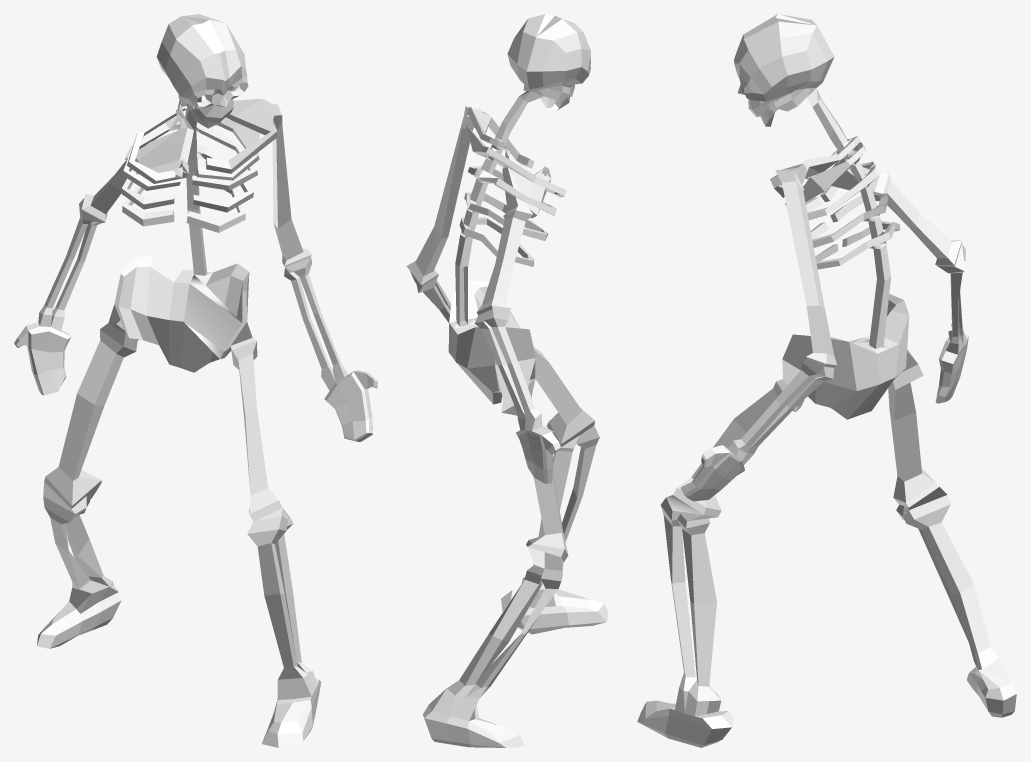
Rendered from SkeletonIdle(5).obj.
3 renders of one model, left to right at view 1: azimuth 30°, elevation 25°; view 2: azimuth 150°, elevation 25°; view 3: azimuth 270°, elevation 25°, orthographic. The views are drawn at different scales.
Visible parts, largest first — view 1: Object002; view 2: Object002; view 3: Object002.
Boxes of the visible parts, x1,y1,x2,y2 form: Object002: (14,14,377,747); Object002: (406,14,608,747); Object002: (637,14,1016,747).
Size of the model in its own units: 408 by 1122 by 556.
